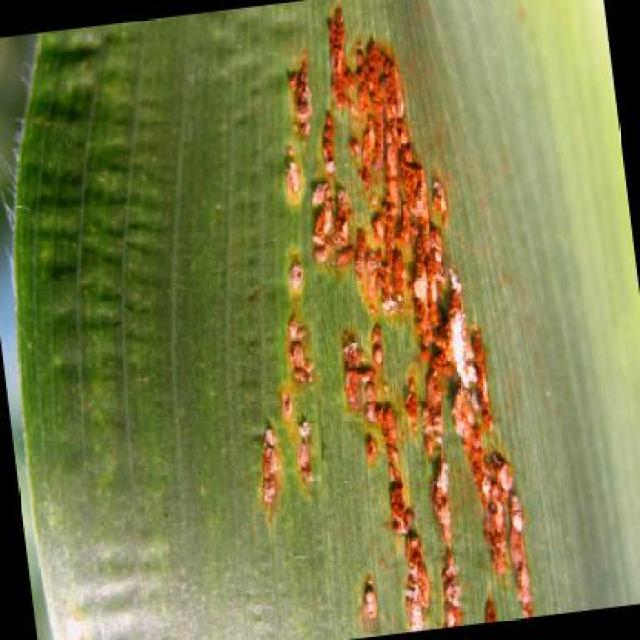Corn_Rust: (45, 57, 612, 598)
